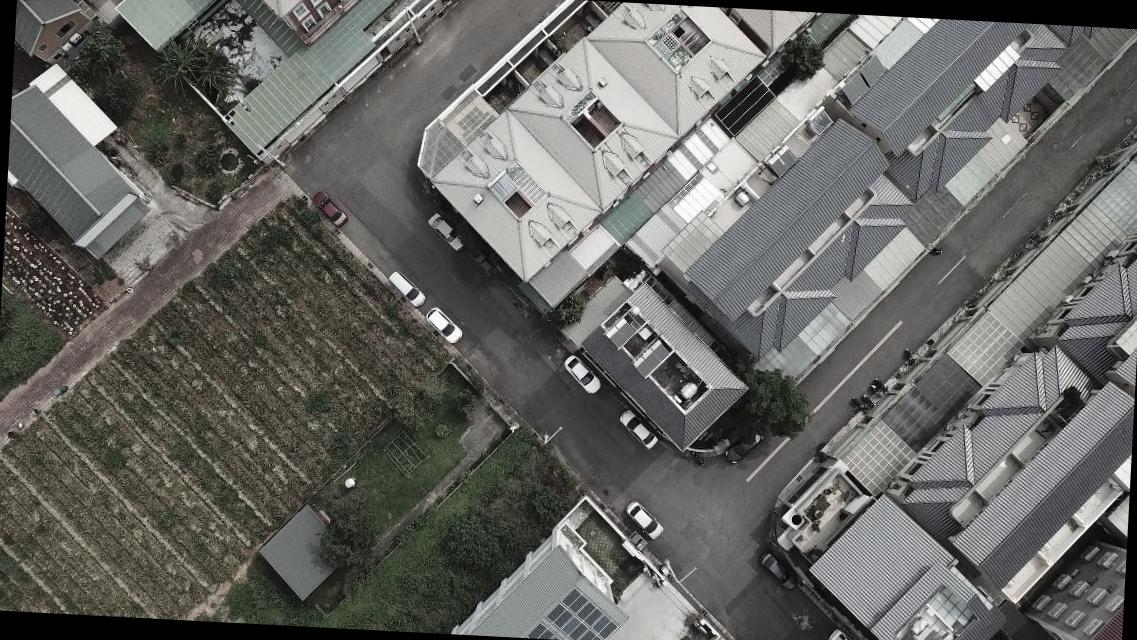vehicle: (562, 353, 604, 395), (619, 408, 660, 449), (386, 268, 427, 308), (724, 428, 764, 468), (426, 212, 468, 250), (624, 500, 662, 541), (757, 552, 800, 588), (422, 307, 464, 343), (310, 190, 349, 228), (825, 628, 869, 639)
